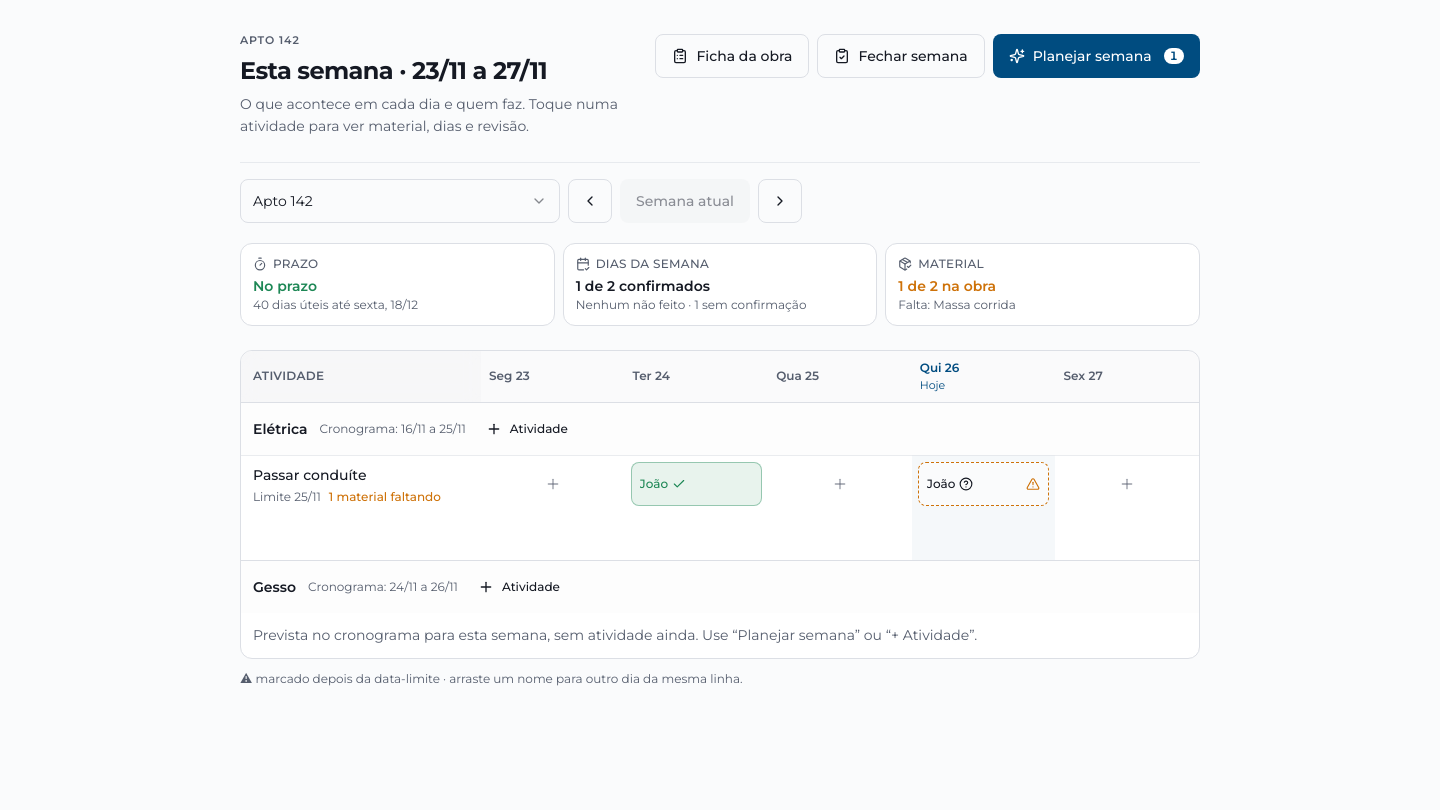
Test: Tela Semana › Ficha da obra: abre a ficha da obra escolhida; sem obra, não há botão
Click the button "Ficha da obra". click: (732, 56)
box: [656, 34, 810, 78]
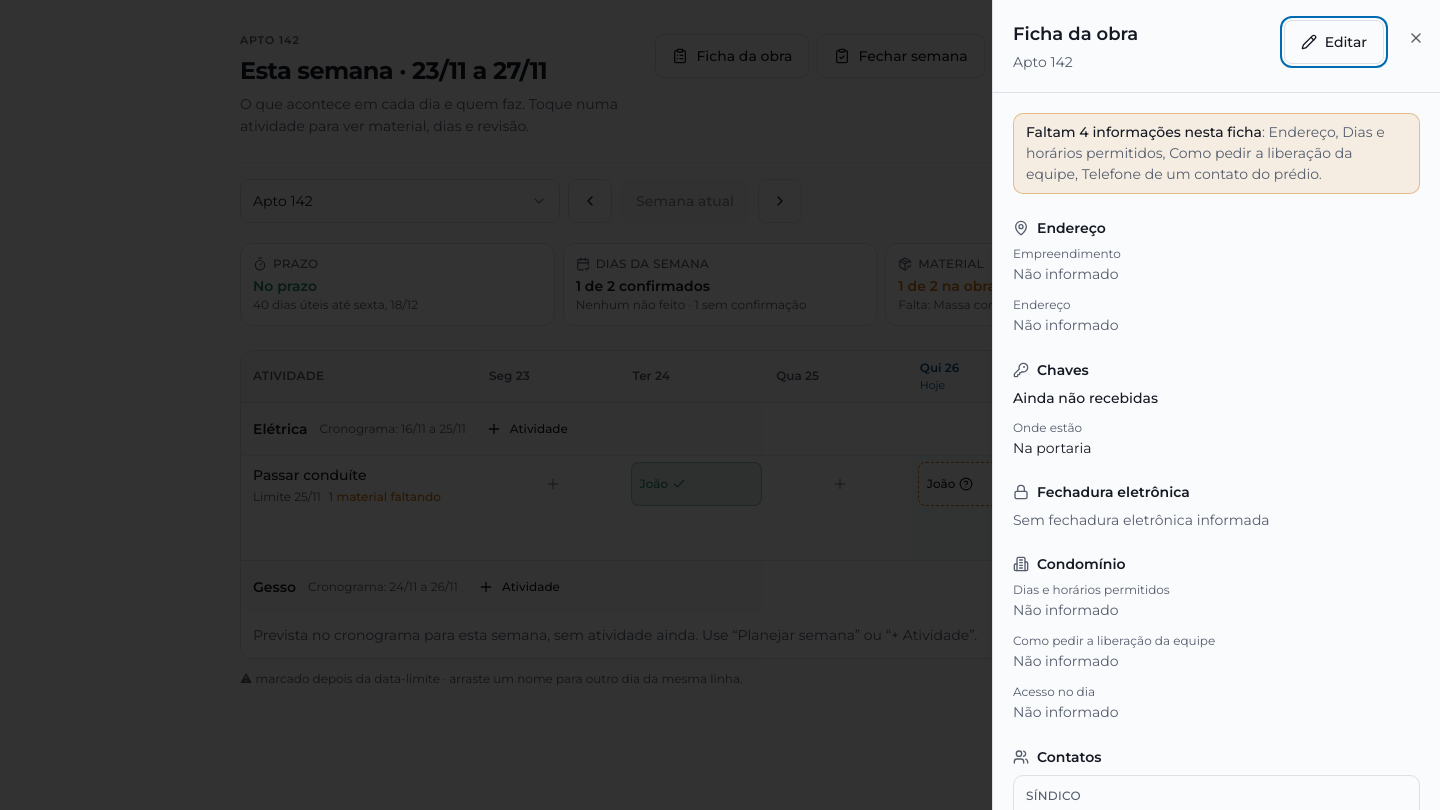
Expected: the text "Apto 142" is shown, [1013, 53, 1073, 71]
Expected: the text "Na portaria" is shown, [1013, 439, 1092, 457]
